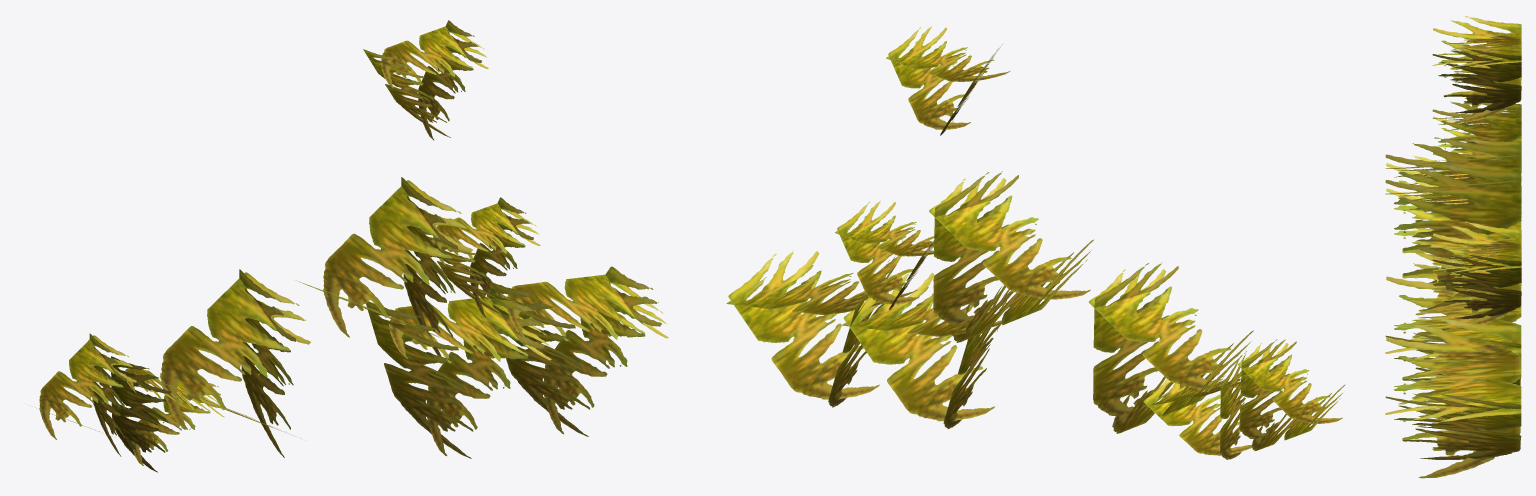
File: huodong_fuben_188_xiaozhiwu_02_c.obj
3 renders of one model, left to right at view 1: azimuth 30°, elevation 25°; view 2: azimuth 150°, elevation 25°; view 3: azimuth 270°, elevation 25°, orthographic. The views are drawn at different scales.
Visible parts, largest first — view 1: Plane10; view 2: Plane10; view 3: Plane10.
Boxes of the visible parts, x1,y1,x2,y2 form: Plane10: (35,20,668,472); Plane10: (726,26,1345,459); Plane10: (1385,16,1521,478).
Size of the model in its own units: 119 by 78.09 by 24.2.
1 material, 1 textured.
